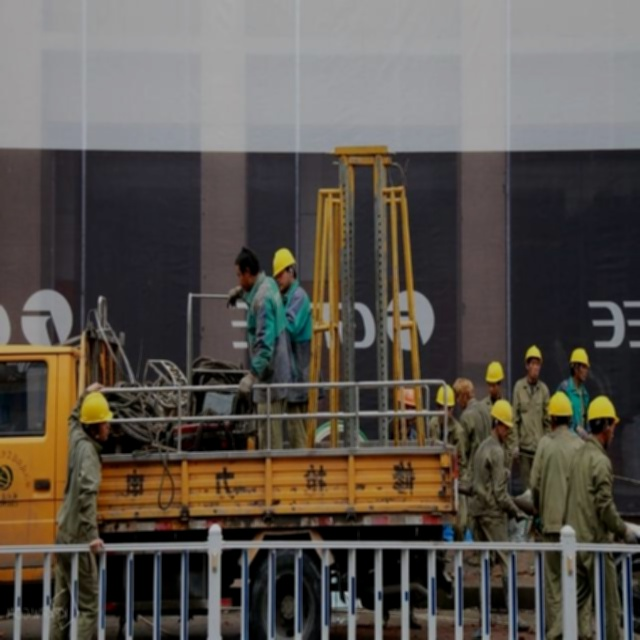Con_Casco: (272, 247, 296, 289)
Sin_Casco_Mascarrilla: (235, 246, 259, 288)
